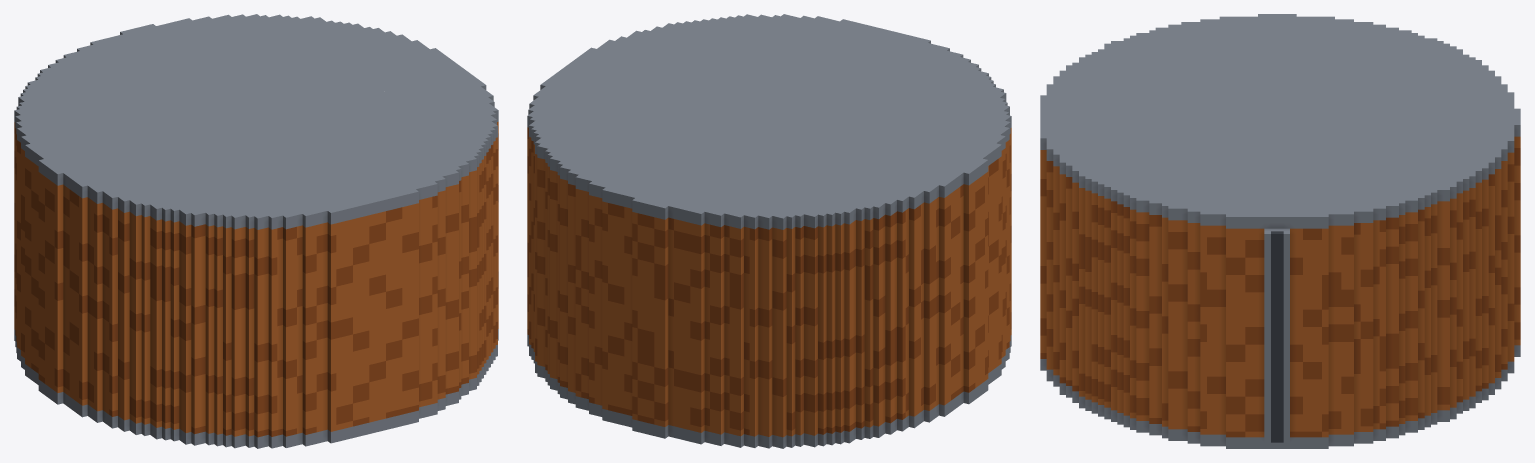
The model's file is tank_hydrolox_l2.glb.
3 renders of one model, left to right at view 1: azimuth 30°, elevation 25°; view 2: azimuth 150°, elevation 25°; view 3: azimuth 270°, elevation 25°, orthographic.
Parts seen in each view (by area): view 1: tank_hydrolox_l2; view 2: tank_hydrolox_l2; view 3: tank_hydrolox_l2.
Boxes of the visible parts, box(x1,y1,x2,y2) form: tank_hydrolox_l2: box(14, 14, 498, 448); tank_hydrolox_l2: box(527, 14, 1011, 448); tank_hydrolox_l2: box(1040, 14, 1520, 448).
Bounding box in the file's own units: 3.85 × 2 × 3.75.
